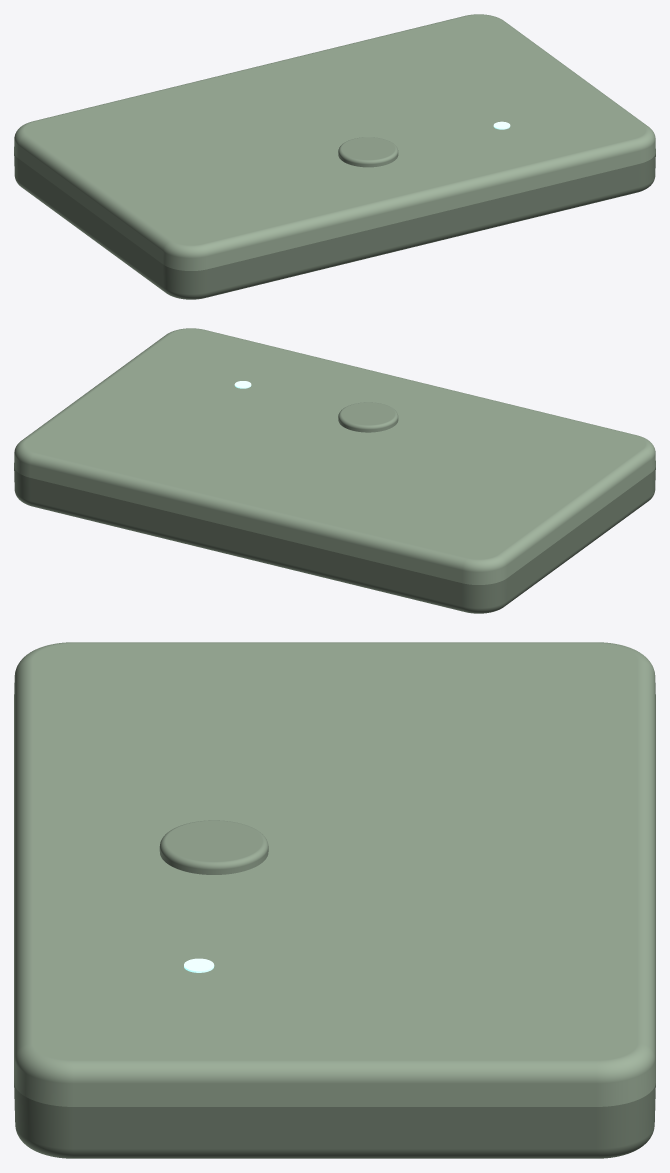
3 views of the same model, one above another, from view 1: azimuth 30°, elevation 25°; view 2: azimuth 150°, elevation 25°; view 3: azimuth 270°, elevation 25° (orthographic). The views are drawn at different scales.
Parts seen in each view (by area): view 1: body.1, accent.1, button.1; view 2: body.1, accent.1, button.1; view 3: body.1, accent.1, button.1.
Boxes of the visible parts, box(x1,y1,x2,y2) form: body.1: box(14, 14, 655, 270); accent.1: box(14, 153, 655, 299); button.1: box(338, 137, 398, 167); body.1: box(14, 328, 655, 584); accent.1: box(14, 467, 655, 613); button.1: box(338, 402, 398, 432); body.1: box(14, 642, 655, 1106); accent.1: box(14, 1083, 655, 1158); button.1: box(159, 820, 268, 874).
Size of the model in its own units: 0.086 by 0.01 by 0.054.
